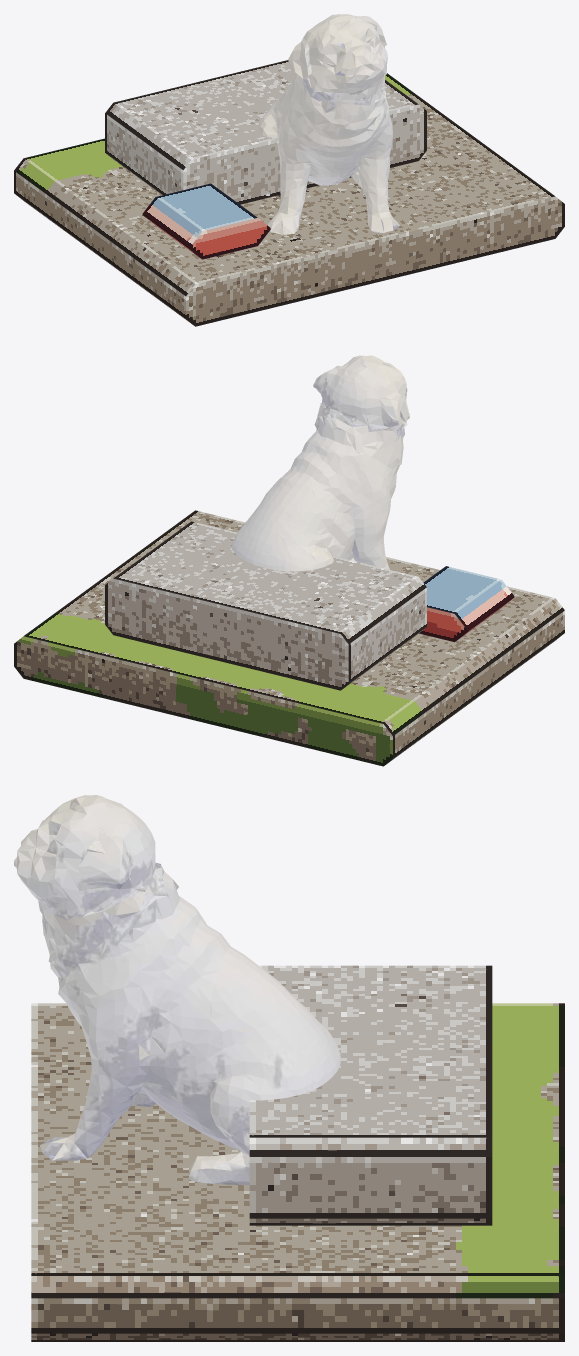
The model's file is pug.glb.
3 views of the same model, one above another, from view 1: azimuth 30°, elevation 25°; view 2: azimuth 150°, elevation 25°; view 3: azimuth 270°, elevation 25° (orthographic). The views are drawn at different scales.
Parts seen in each view (by area): view 1: base, step, model_dog, bowl; view 2: base, step, model_dog, bowl; view 3: base, model_dog, step.
Boxes of the visible parts, bbox=[...] form: base: bbox=[14, 73, 564, 326]; step: bbox=[105, 60, 426, 204]; model_dog: bbox=[258, 14, 400, 234]; bowl: bbox=[142, 183, 270, 259]; base: bbox=[14, 510, 564, 766]; step: bbox=[105, 521, 426, 690]; model_dog: bbox=[231, 355, 409, 571]; bowl: bbox=[419, 566, 514, 642]; base: bbox=[31, 1003, 564, 1341]; model_dog: bbox=[14, 795, 340, 1185]; step: bbox=[249, 965, 492, 1225].
Size of the model in its own units: 28 by 18 by 22.72.
Materials: 2 (2 with a texture image).
